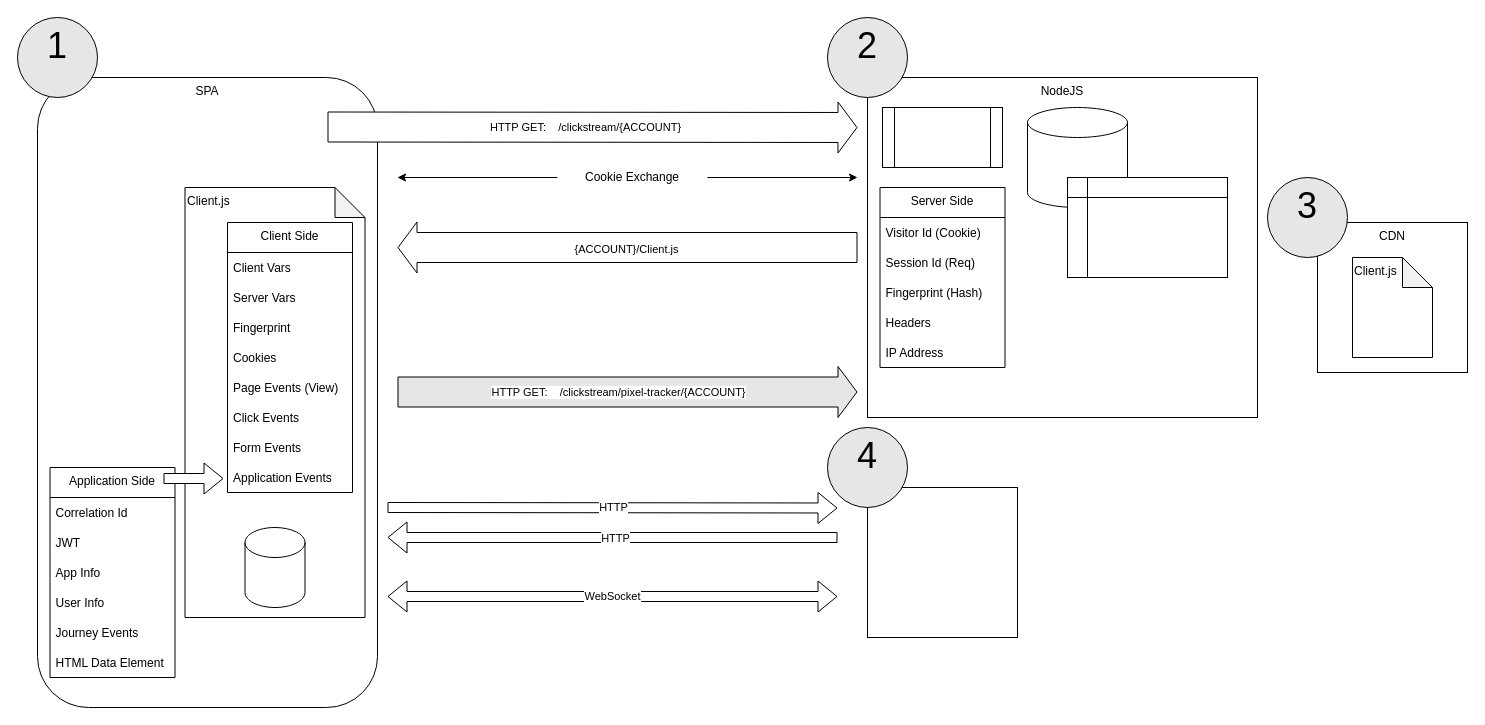
Image size: 1485x725. Some labels were removed from this diagram. The shapes that lost their labels are listed below. From the top down, each one's centre as x and y in pixels, then its label:
point (942, 137): GET
point (1077, 157): Config
point (1147, 227): Data Method: "AJAX" Type: "ATOMIC" Datastore: "NEXUS" Listeners: "EVENTS"
point (274, 567): Queue
point (942, 562): Spring Reactive Clickstream Intake API
